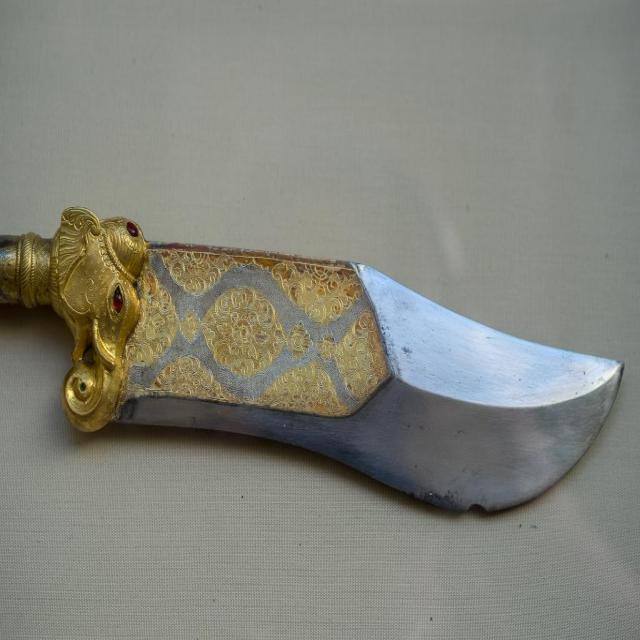Knife: (0, 208, 622, 510)
